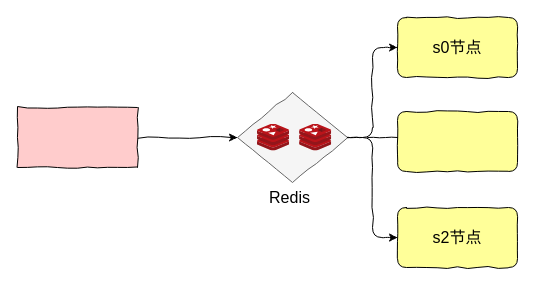
Some shapes in this 535 by 285 pixel diagram are drawn without their labels. Here are the shapes that lost their labels. From the top down, the box of each, then its label:
(16, 106, 138, 168): 3w张美女照片存入缓存
(396, 110, 518, 172): s1节点
